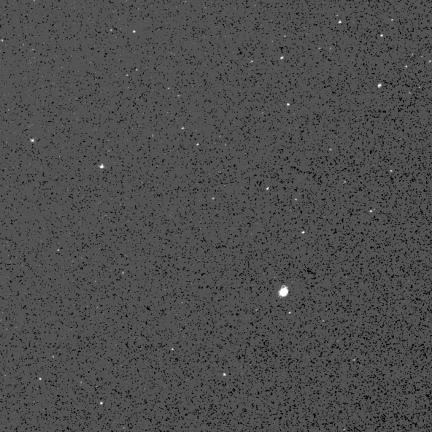blob: (279, 286, 288, 296), (99, 164, 104, 168), (381, 34, 384, 38), (339, 21, 342, 24), (133, 31, 136, 34), (281, 57, 284, 60), (378, 84, 381, 87), (100, 402, 103, 405)
